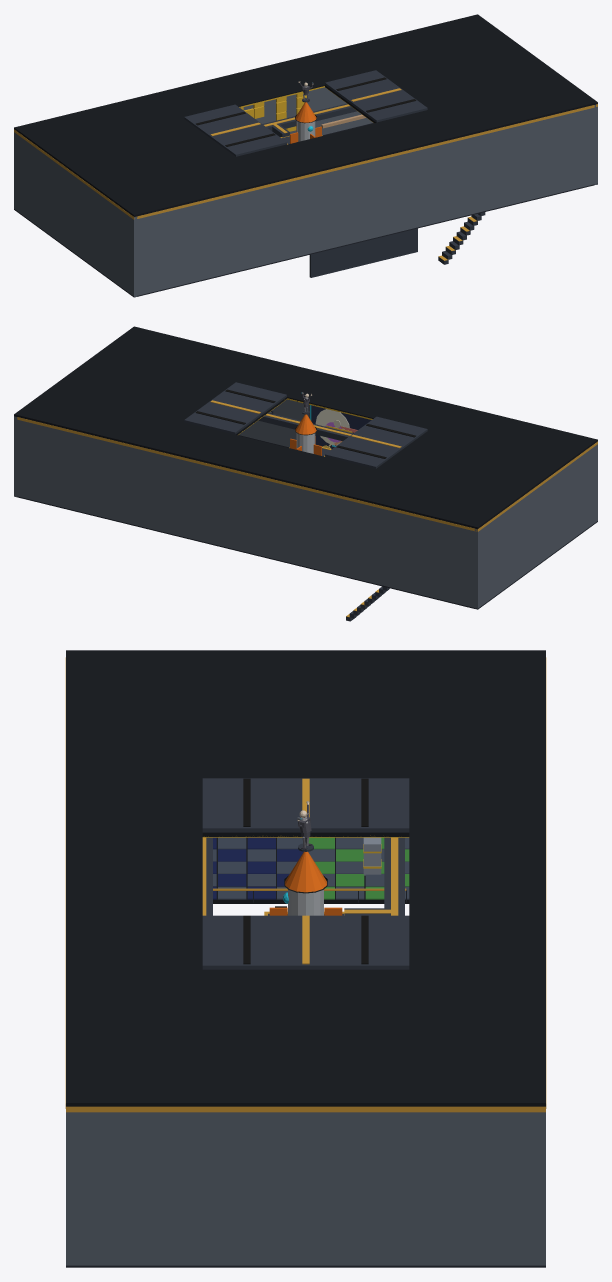
File: hall.glb
3 renders of one model, top to bottom at view 1: azimuth 30°, elevation 25°; view 2: azimuth 150°, elevation 25°; view 3: azimuth 270°, elevation 25°, orthographic. The views are drawn at different scales.
Parts seen in each view (by area): view 1: hall; view 2: hall, slide_0; view 3: hall.
Boxes of the visible parts, x1,y1,x2,y2 form: hall: (14, 14, 597, 297); hall: (14, 326, 597, 621); slide_0: (315, 409, 349, 445); hall: (65, 650, 546, 1267).
Size of the model in its own units: 72.55 by 25.51 by 32.55.
